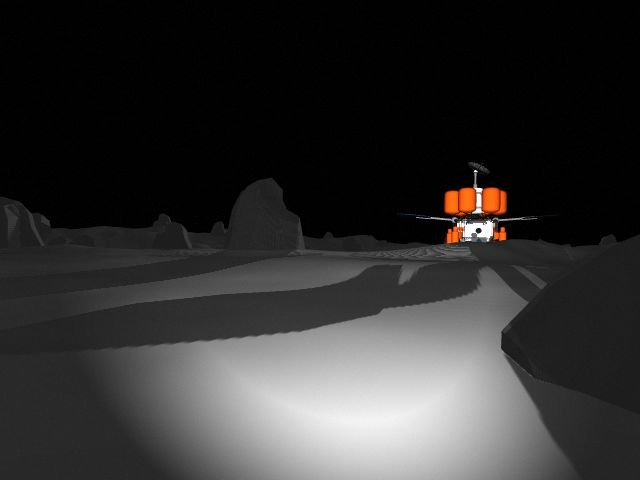homebase: (388, 160, 553, 254)
